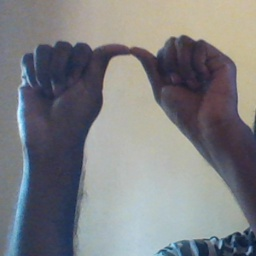A: (17, 33, 239, 147)
